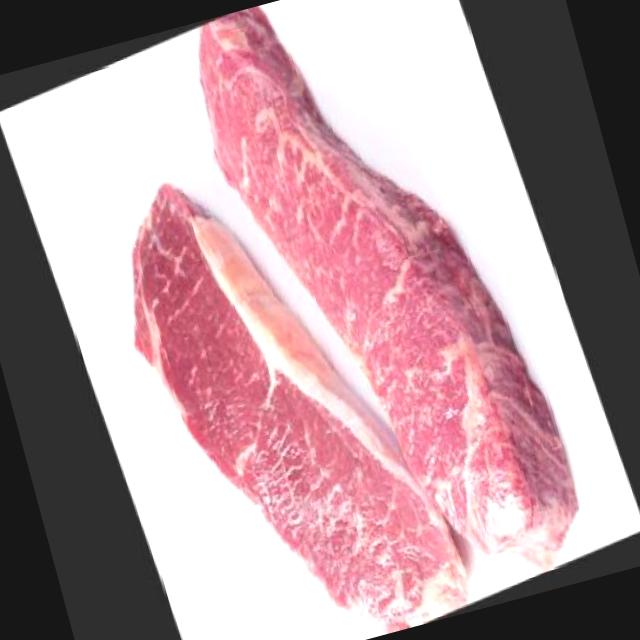beef: (165, 0, 615, 627), (72, 125, 492, 640)
